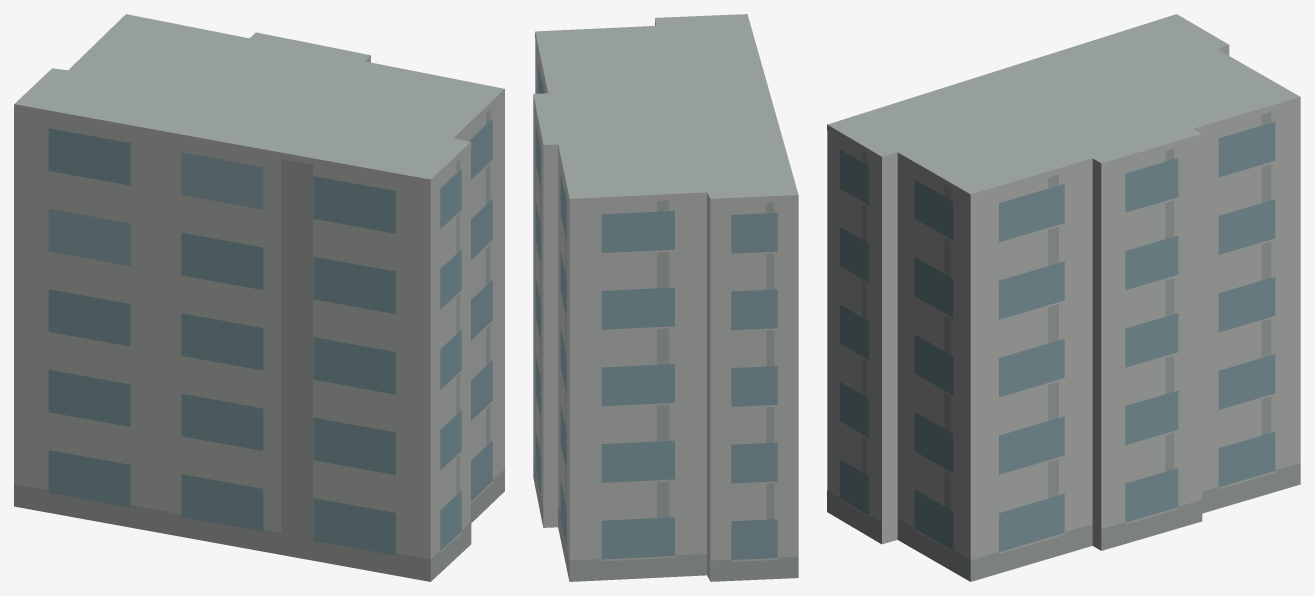
File: survey-upis-32799794.glb
3 views of the same model, side by side, from view 1: azimuth 30°, elevation 25°; view 2: azimuth 150°, elevation 25°; view 3: azimuth 270°, elevation 25° (orthographic). The views are drawn at different scales.
Visible parts, largest first — view 1: survey-upis-32799794.tmp; view 2: survey-upis-32799794.tmp; view 3: survey-upis-32799794.tmp.
Part boxes in pixels (<box>): survey-upis-32799794.tmp: <box>14,14,504,581</box>; survey-upis-32799794.tmp: <box>533,14,798,581</box>; survey-upis-32799794.tmp: <box>827,14,1300,581</box>.
Size of the model in its own units: 15.23 by 15.25 by 16.9.
